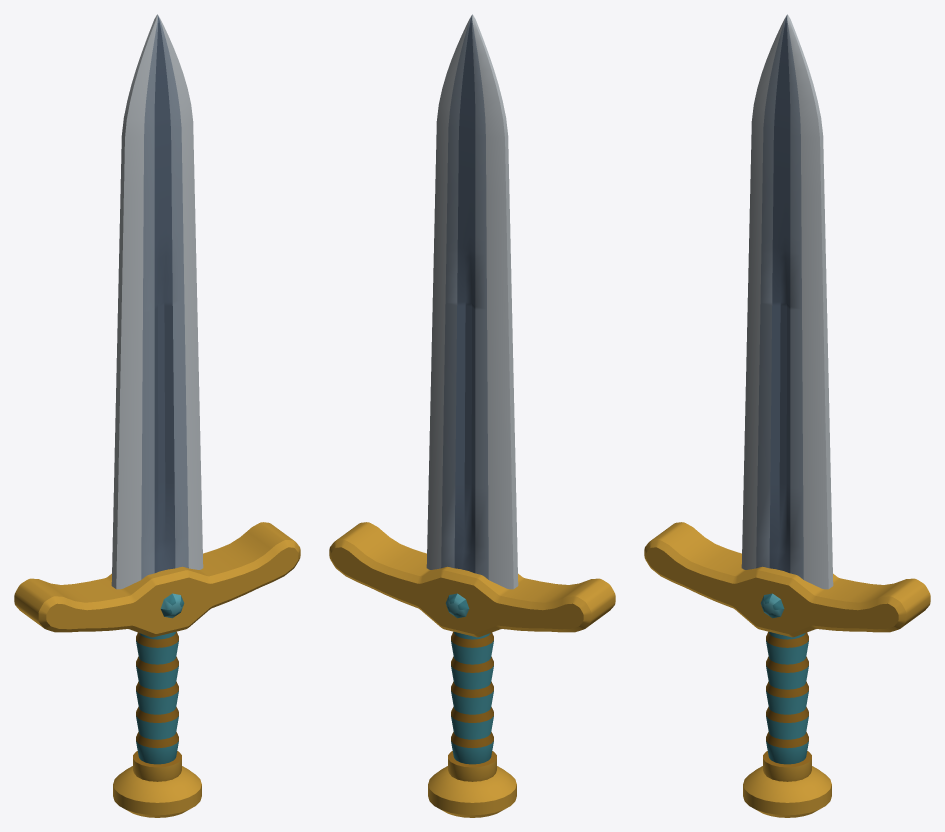
File: Longsword_02.glb
The picture shows the model from 3 angles, left to right: view 1: azimuth 30°, elevation 25°; view 2: azimuth 150°, elevation 25°; view 3: azimuth 330°, elevation 25°; orthographic projection.
Visible parts, largest first — view 1: Longsword_02; view 2: Longsword_02; view 3: Longsword_02.
Part boxes in pixels (left/top/right/bottom): Longsword_02: left=14, top=14, right=300, bottom=817; Longsword_02: left=329, top=14, right=615, bottom=817; Longsword_02: left=644, top=14, right=930, bottom=817.
Bounding box in the file's own units: 2.37 × 6.81 × 0.6942.
